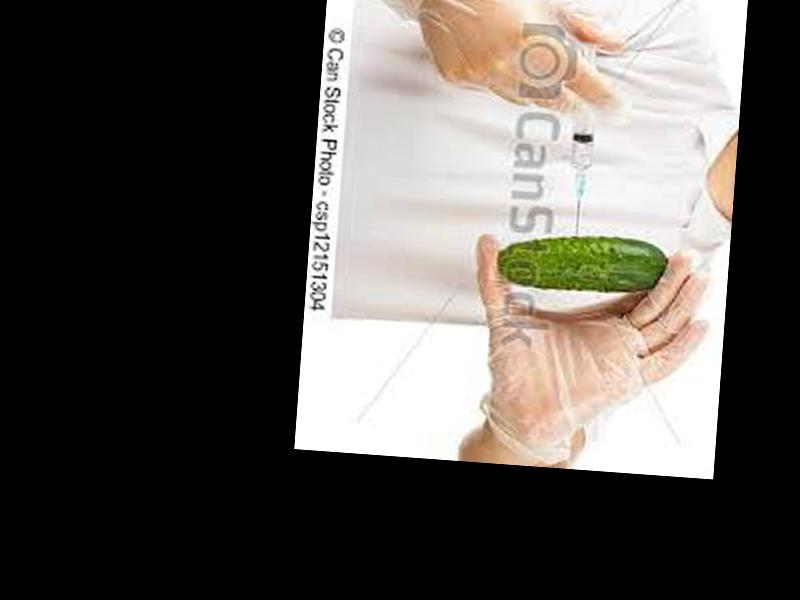Cucumber: (492, 231, 669, 299)
